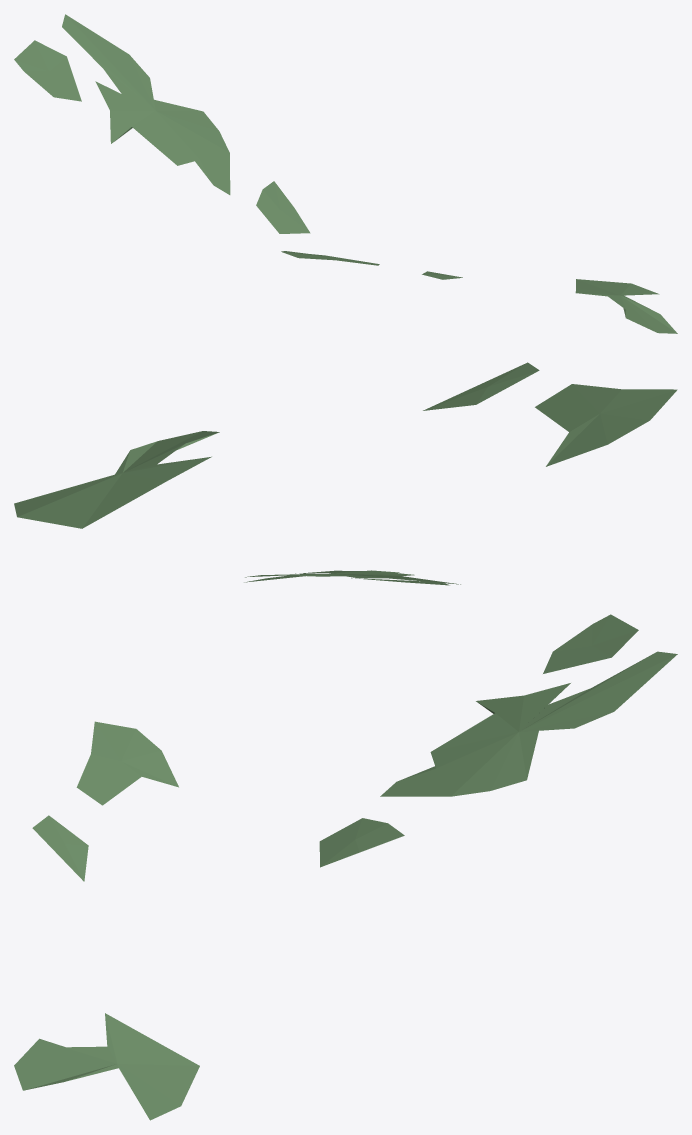
Rendered from c_1667_17820_forest.glb.
The picture shows the model from 3 angles, top to bottom: view 1: azimuth 30°, elevation 25°; view 2: azimuth 150°, elevation 25°; view 3: azimuth 270°, elevation 25°; orthographic projection. The views are drawn at different scales.
Visible parts, largest first — view 1: geometry_0; view 2: geometry_0; view 3: geometry_0.
Boxes of the visible parts, x1=… form: geometry_0: x1=14, y1=14, x2=677, y2=333; geometry_0: x1=14, y1=362, x2=677, y2=585; geometry_0: x1=14, y1=614, x2=677, y2=1120.
Size of the model in its own units: 234 by 103 by 250.
